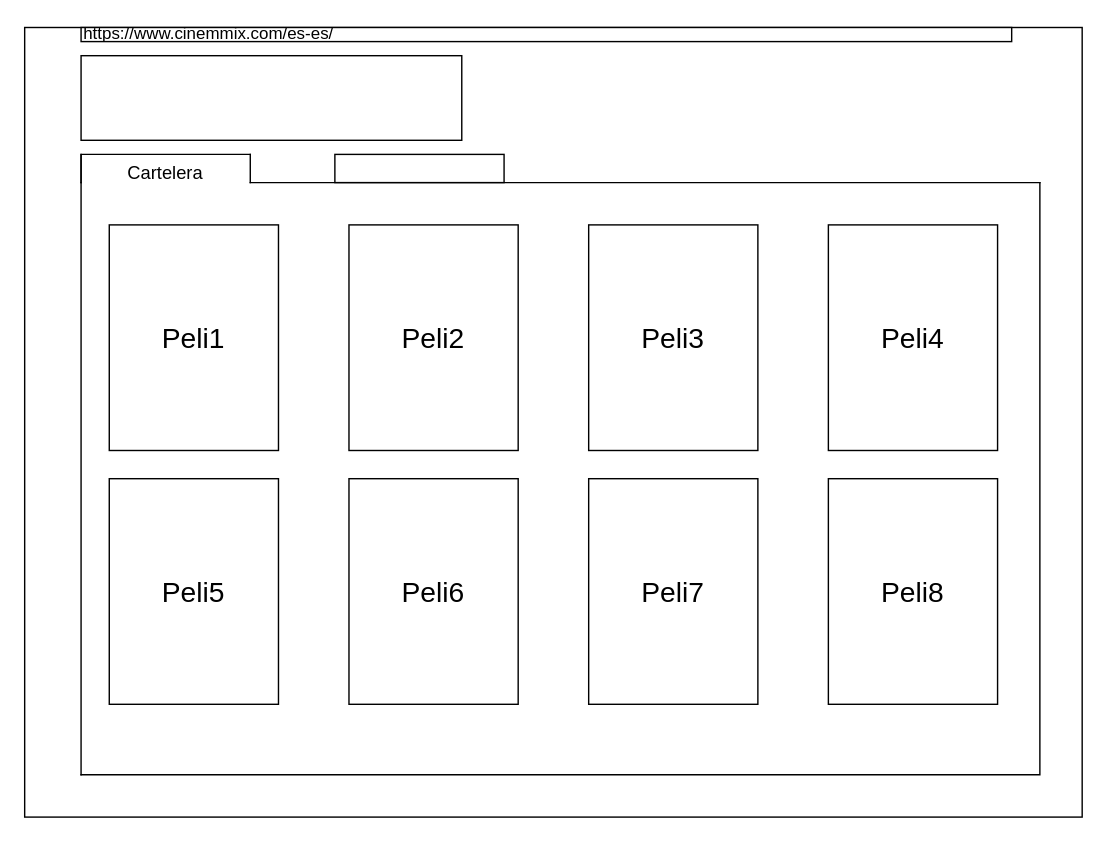
This 1107x842 diagram has some shape labels left out. Each missing label, with the centre of its shape:
"CineMix" belongs at point 271,97.
"Dias" belongs at point 418,168.
